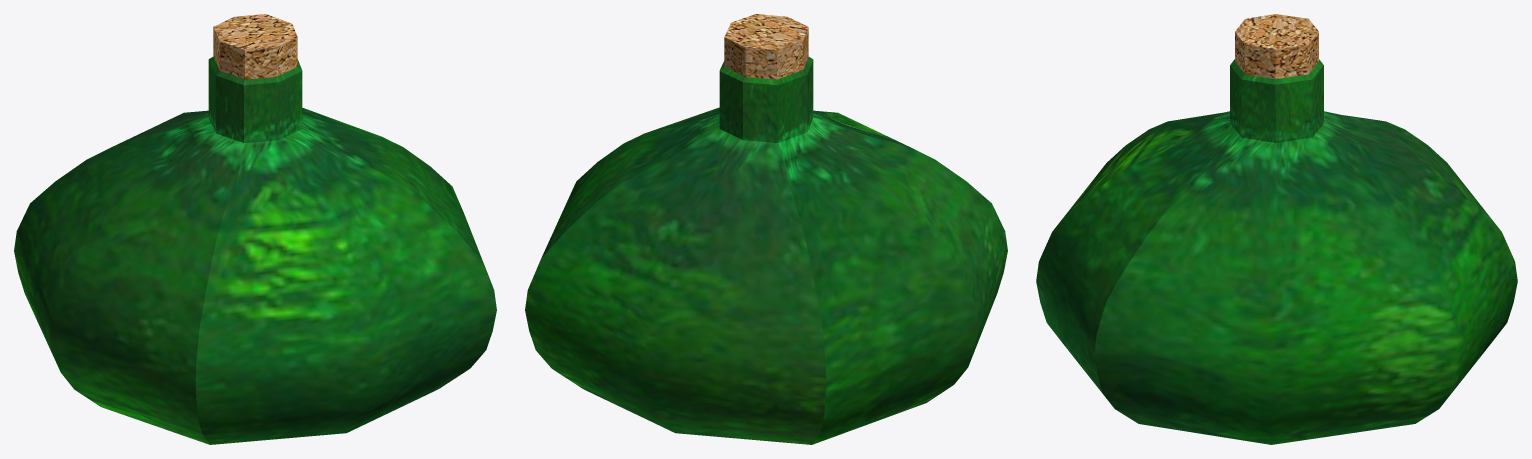
Rendered from Bottle.fbx.
The picture shows the model from 3 angles, left to right: view 1: azimuth 30°, elevation 25°; view 2: azimuth 150°, elevation 25°; view 3: azimuth 270°, elevation 25°; orthographic projection.
Visible parts, largest first — view 1: pCube1; view 2: pCube1; view 3: pCube1.
Boxes of the visible parts, x1=… form: pCube1: x1=14, y1=14, x2=496, y2=444; pCube1: x1=525, y1=14, x2=1007, y2=444; pCube1: x1=1036, y1=14, x2=1517, y2=444.
Bounding box in the file's own units: 6.16 × 5.15 × 6.17.
1 material, 1 textured.
